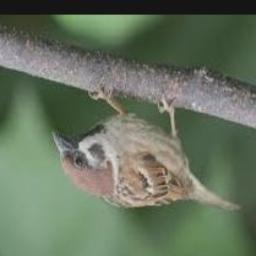Sparrow: (53, 87, 243, 212)
